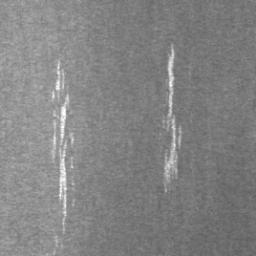White rust: (52, 91, 75, 232), (161, 41, 182, 194), (51, 58, 65, 106)
